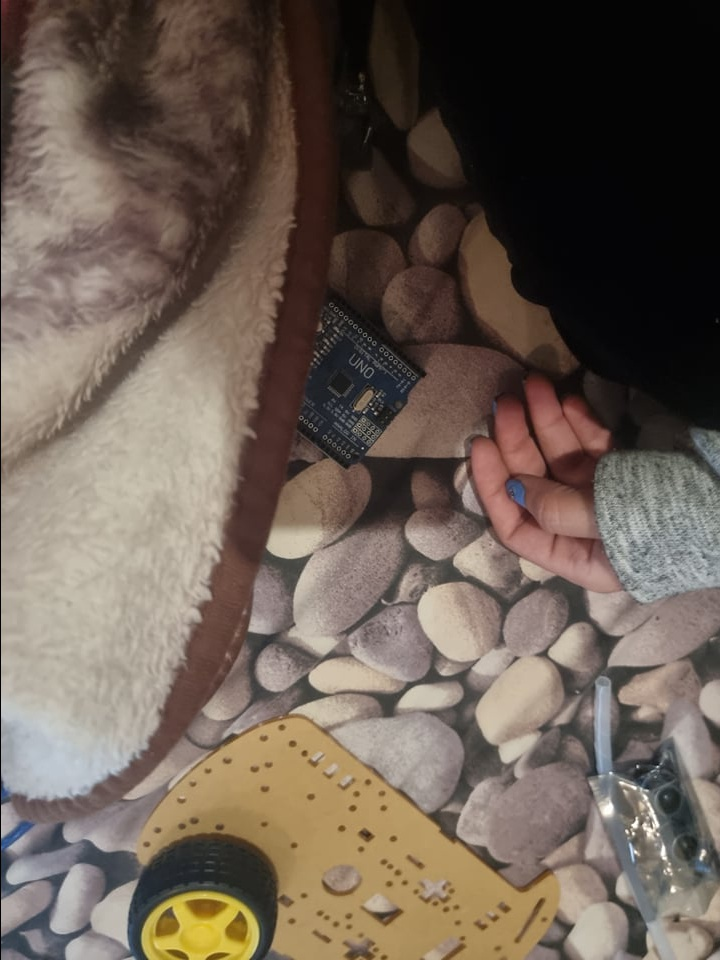SENSOR: (640, 778, 705, 870)
UNO R3: (289, 300, 428, 470)
